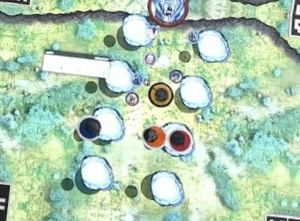blue: (78, 115, 103, 140)
orange: (141, 124, 167, 149)
red: (166, 128, 191, 153)
yellow_night_blue: (146, 82, 172, 108)
